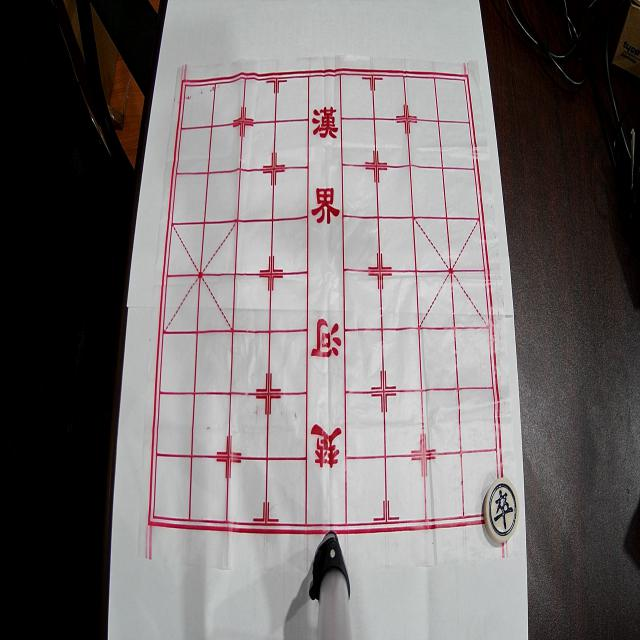black-soldier: (484, 478, 520, 542)
